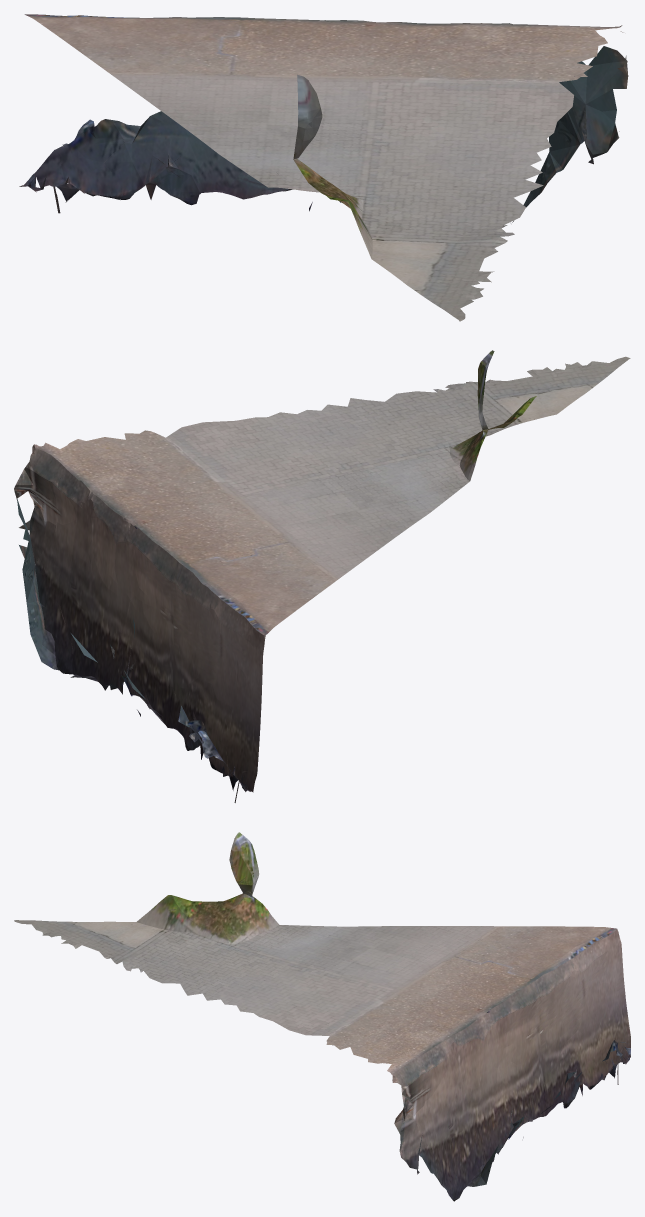
The picture shows the model from 3 angles, top to bottom: view 1: azimuth 30°, elevation 25°; view 2: azimuth 150°, elevation 25°; view 3: azimuth 270°, elevation 25°; orthographic projection. The views are drawn at different scales.
Bounding box in the file's own units: 7.51 × 5.66 × 12.84.
1 material, 1 textured.
